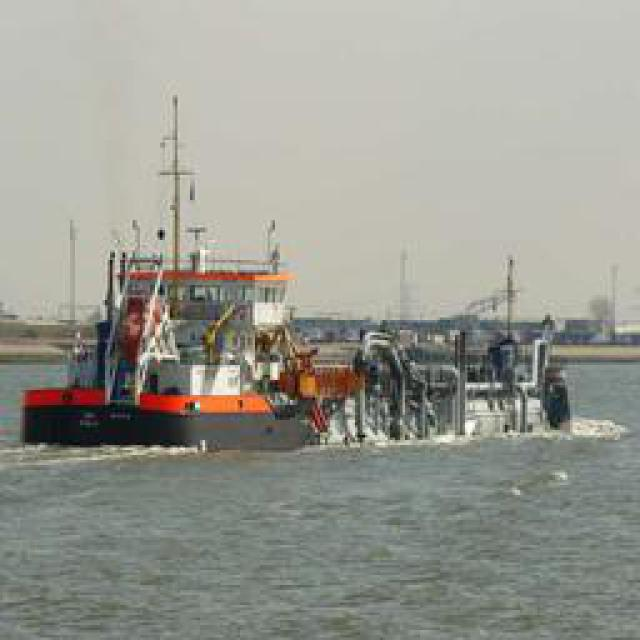Ship: (22, 147, 616, 458)
